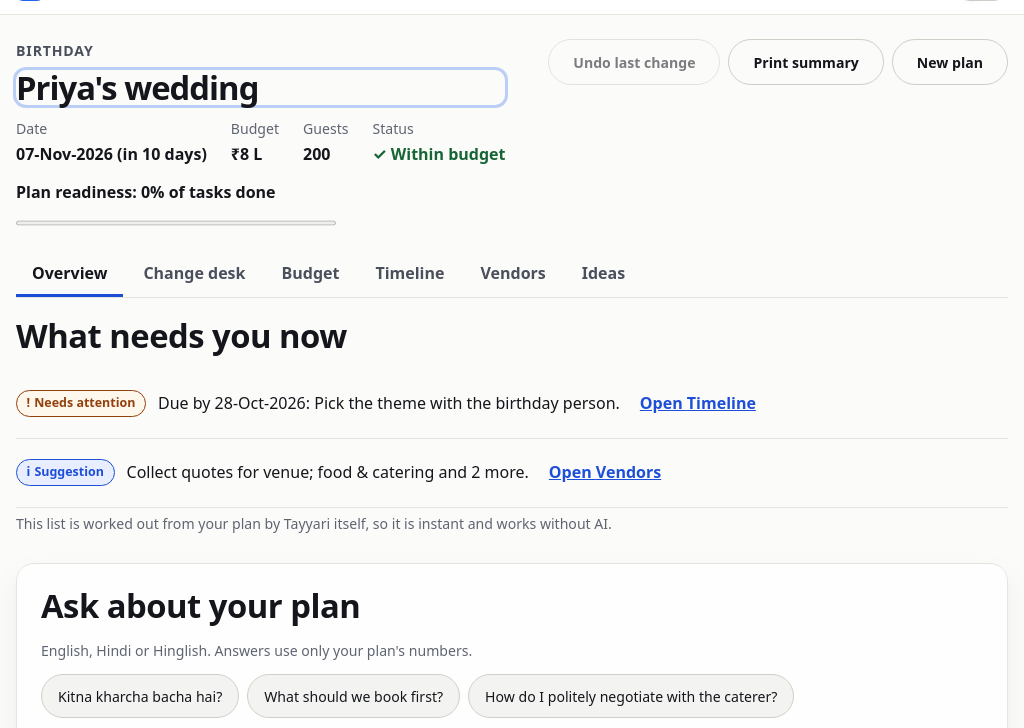
Scenario: timeline tab › describes a birthday runway without the six-month wording
This screenshot has width=1024, height=728.
Click the tab "Timeline".
click(410, 274)  # box [359,252,460,297]
(page scrolled)
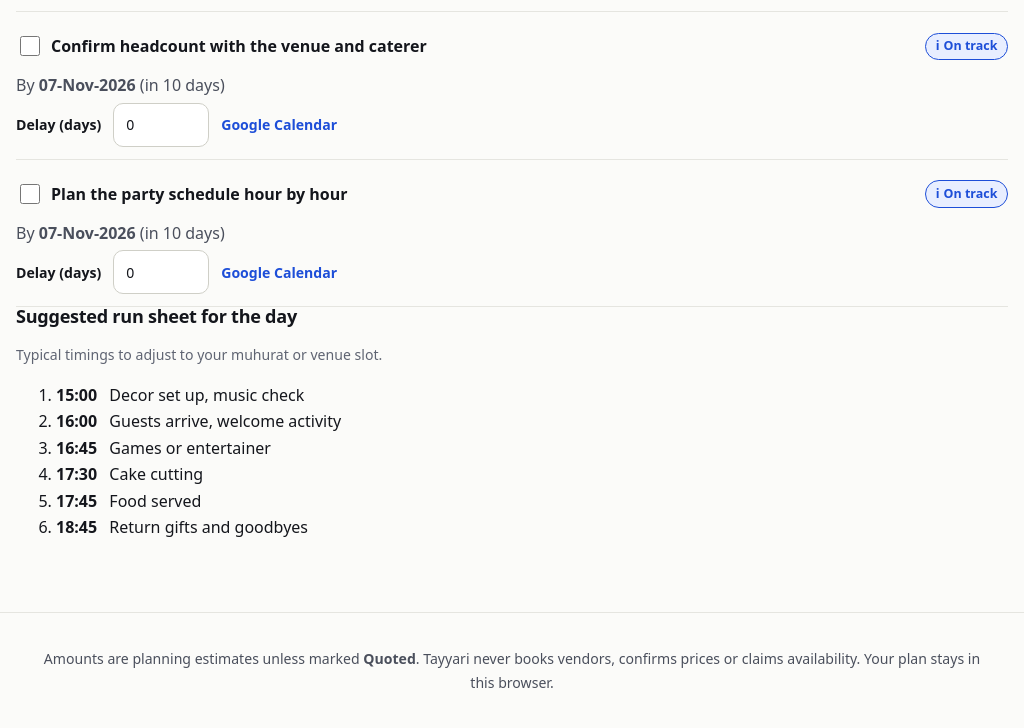
Now the list item "Cake cutting" is shown, box [109,463,203,485]
